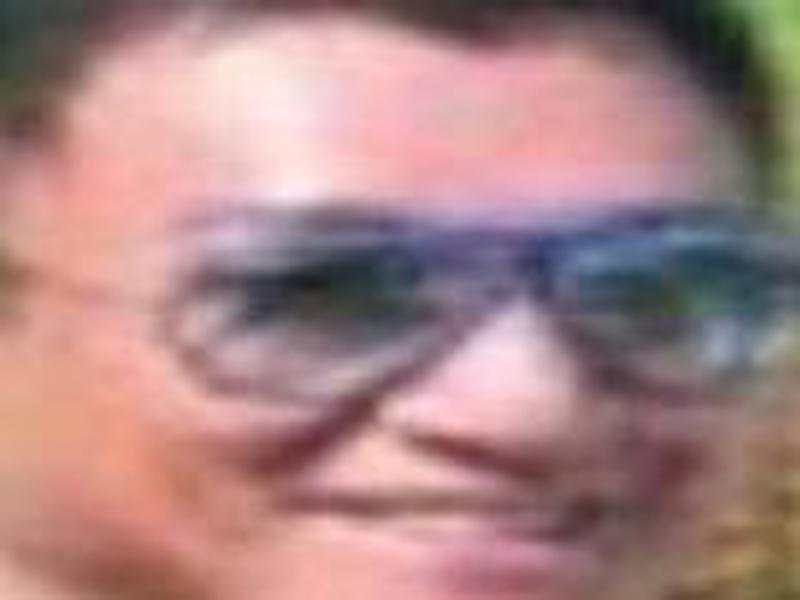without_mask: (11, 114, 774, 600)
